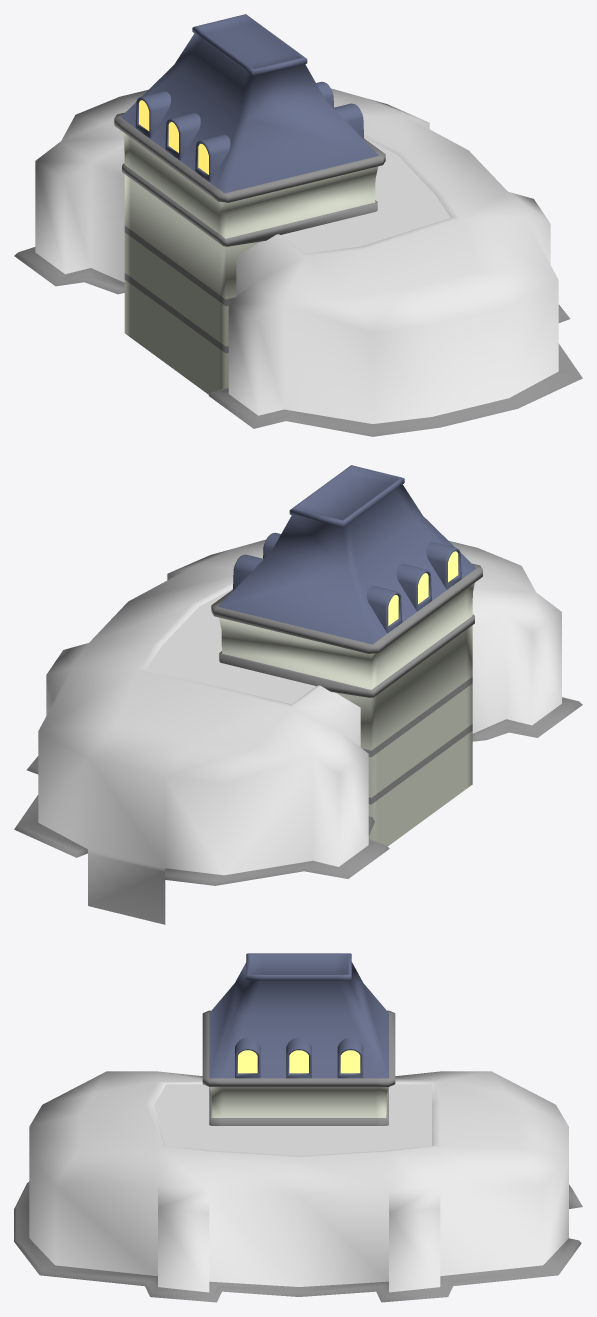
Rendered from p-bld-hotel.glb.
3 views of the same model, one above another, from view 1: azimuth 30°, elevation 25°; view 2: azimuth 150°, elevation 25°; view 3: azimuth 270°, elevation 25° (orthographic). The views are drawn at different scales.
Visible parts, largest first — view 1: Base-col, Top-col; view 2: Base-col, Top-col; view 3: Base-col, Top-col.
Boxes of the visible parts, <box> form: Base-col: <box>14,88,582,436</box>; Top-col: <box>114,14,385,394</box>; Base-col: <box>14,539,582,924</box>; Top-col: <box>211,465,482,846</box>; Base-col: <box>14,1071,582,1302</box>; Top-col: <box>202,953,395,1125</box>.
Size of the model in its own units: 28.4 by 24 by 44.3.
